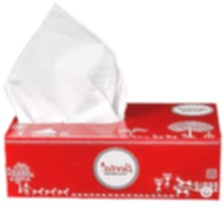book: (0, 96, 224, 205)
tissue: (0, 0, 135, 128)
